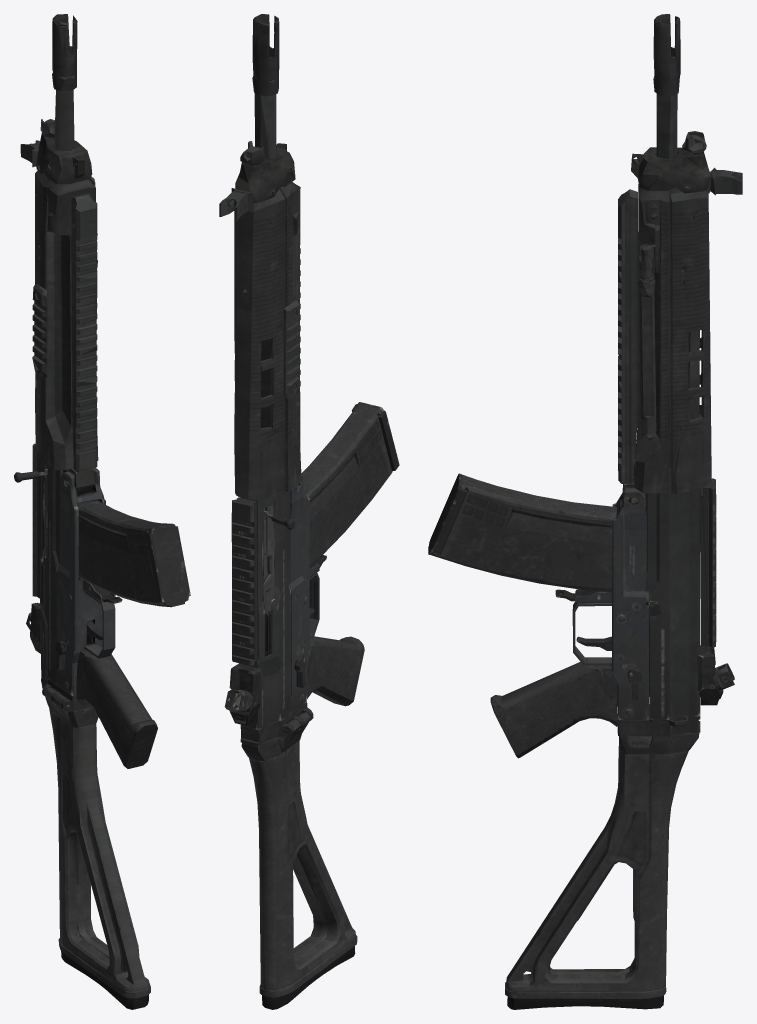
Rendered from SIG550.fbx.
3 views of the same model, side by side, from view 1: azimuth 30°, elevation 25°; view 2: azimuth 150°, elevation 25°; view 3: azimuth 270°, elevation 25° (orthographic). The views are drawn at different scales.
Visible parts, largest first — view 1: SIG550; view 2: SIG550; view 3: SIG550.
Boxes of the visible parts, left/top/right/bottom form: SIG550: left=14, top=14, right=190, bottom=1009; SIG550: left=219, top=14, right=399, bottom=1009; SIG550: left=428, top=14, right=742, bottom=1009.
Size of the model in its own units: 0.0422 by 0.596 by 0.1721.
